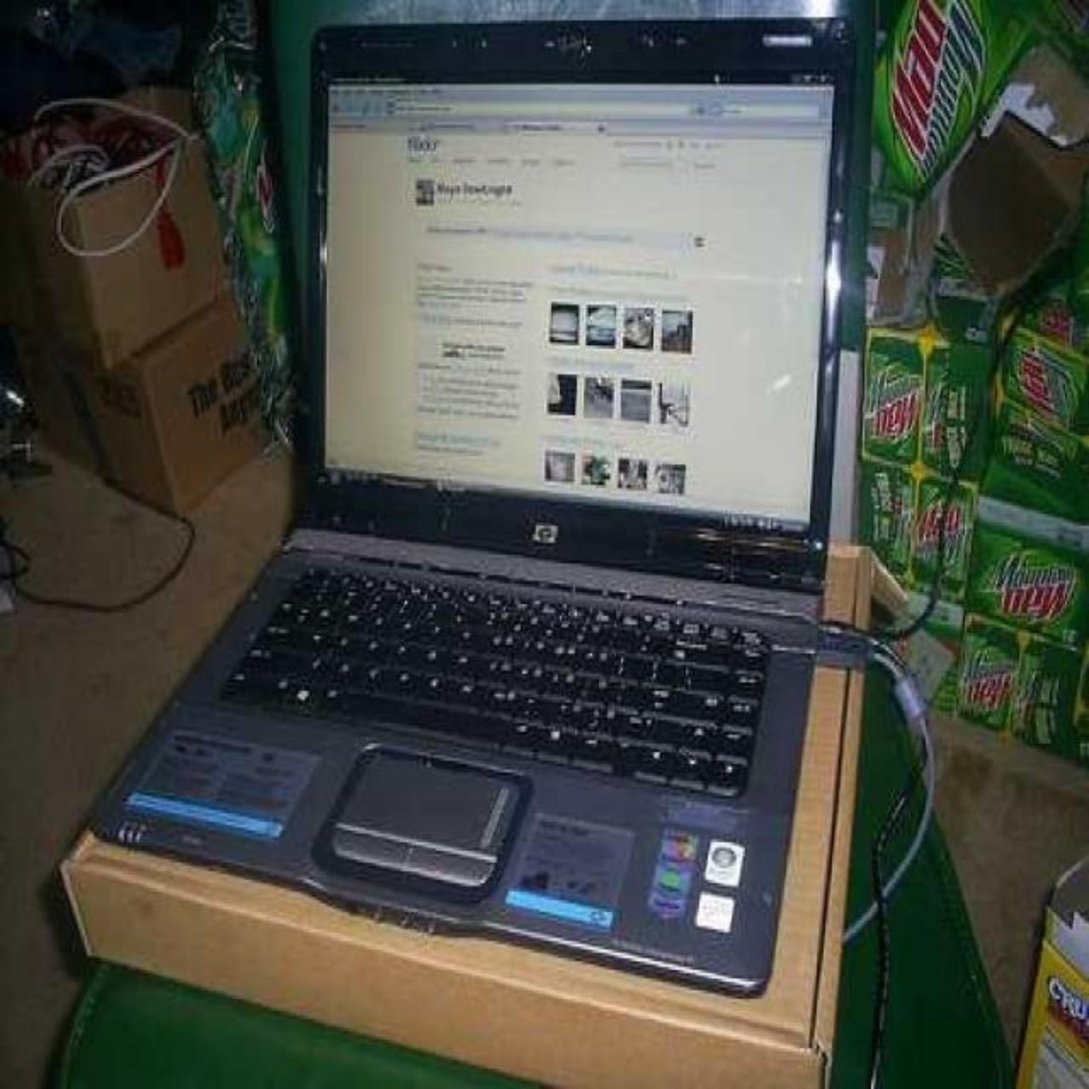laptop: (94, 14, 880, 892)
